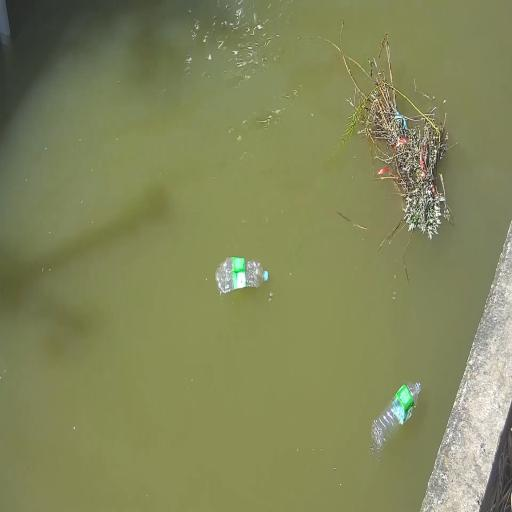plastic: (372, 383, 420, 454), (216, 257, 268, 293)
twig: (336, 33, 451, 239)
